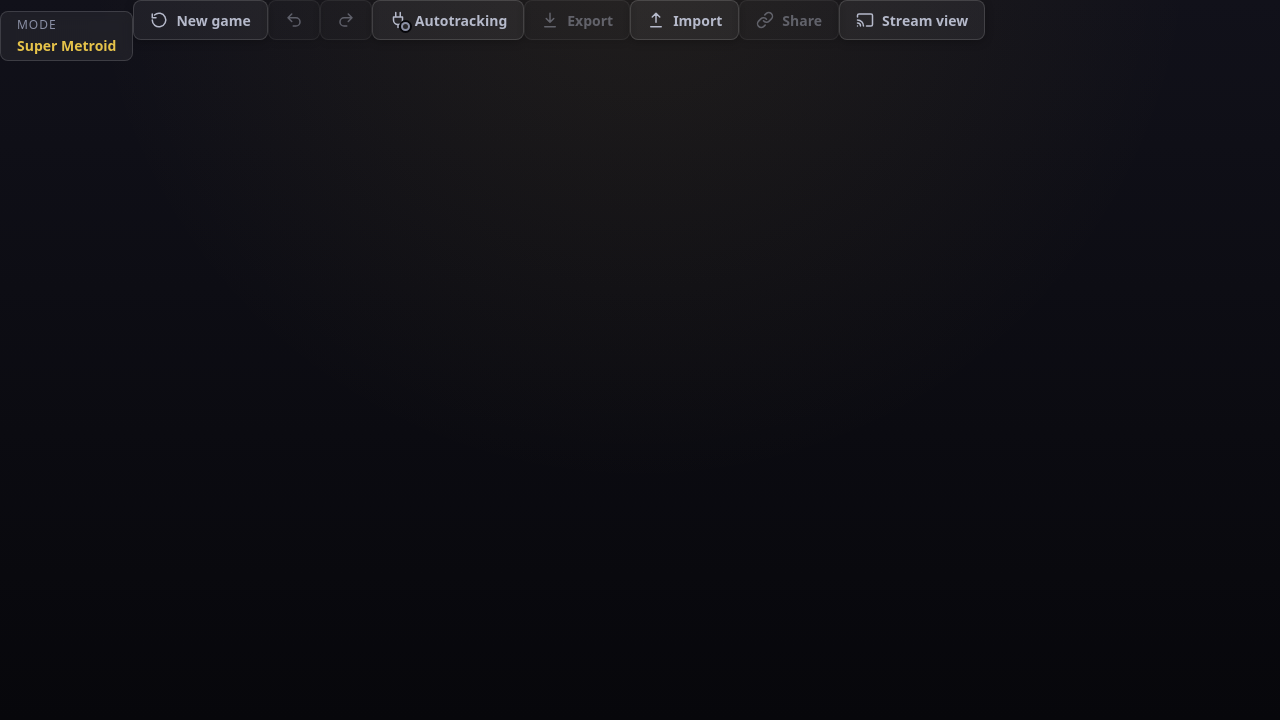
Test: the Super Metroid toolbar › when the clipboard refuses the stream view's address › leaves it selected for Ctrl+C when nothing can copy
This screenshot has width=1280, height=720.
Click the button with test id "sm-stream-view": (912, 20) x1=839 y1=0 x2=985 y2=40
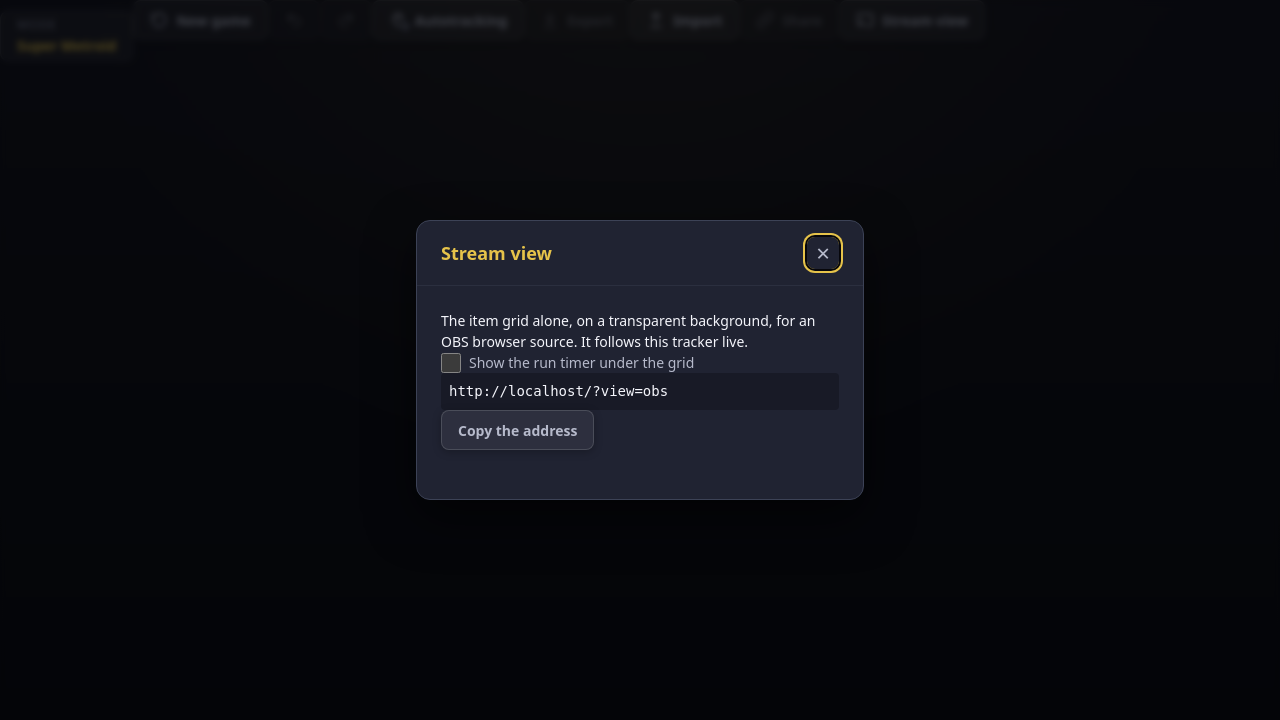
Click the button "Copy the address": (518, 430) x1=441 y1=410 x2=594 y2=450
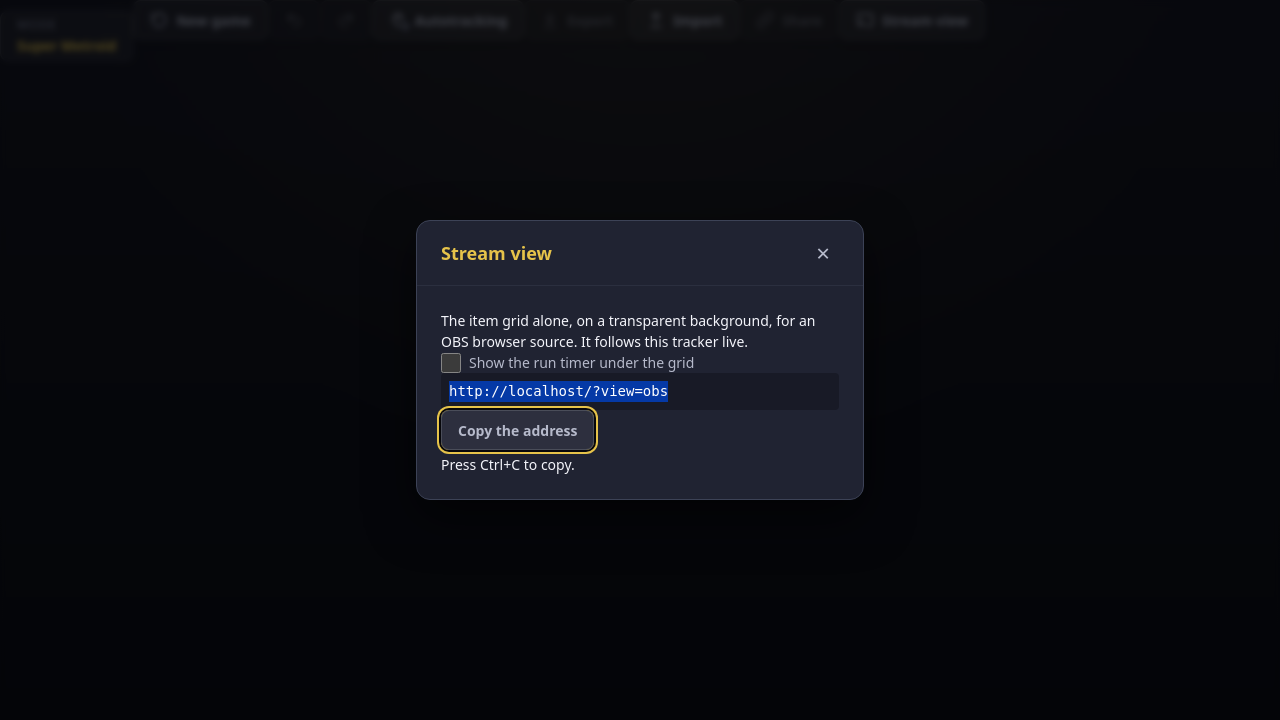
Expected: the text "Press Ctrl+C to copy." is shown, x1=441 y1=455 x2=575 y2=474
